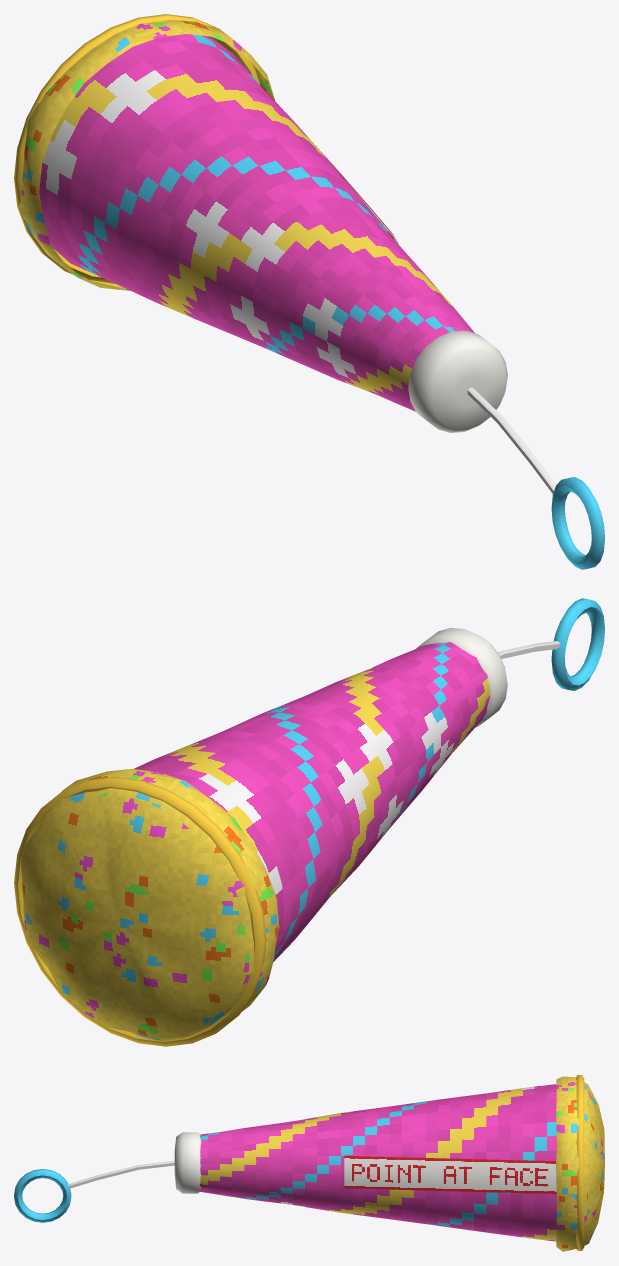
File: w_popper.glb
3 views of the same model, one above another, from view 1: azimuth 30°, elevation 25°; view 2: azimuth 150°, elevation 25°; view 3: azimuth 270°, elevation 25° (orthographic). The views are drawn at different scales.
Parts seen in each view (by area): view 1: popper_body_wzA, popper_body_wzB, popper_body_wzN; view 2: popper_body_wzB, popper_body_wzA, popper_body_wzN; view 3: popper_body_wzA, popper_body_wzB, popper_body_wzN.
Part boxes in pixels (left/top/right/bottom): popper_body_wzA: left=39, top=34, right=474, bottom=411; popper_body_wzB: left=14, top=14, right=507, bottom=432; popper_body_wzN: left=260, top=85, right=604, bottom=569; popper_body_wzB: left=14, top=628, right=507, bottom=1046; popper_body_wzA: left=134, top=642, right=490, bottom=961; popper_body_wzN: left=497, top=598, right=604, bottom=690; popper_body_wzA: left=199, top=1084, right=556, bottom=1241; popper_body_wzB: left=174, top=1075, right=604, bottom=1251; popper_body_wzN: left=14, top=1155, right=556, bottom=1222.
Size of the model in its own units: 0.1068 by 0.1068 by 0.3587.
7 materials, 3 textured.
